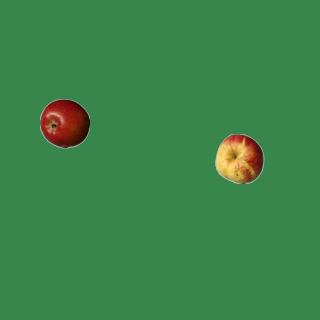Apple Braeburn: (39, 98, 89, 148)
Apple Red Yellow 1: (214, 133, 264, 183)
